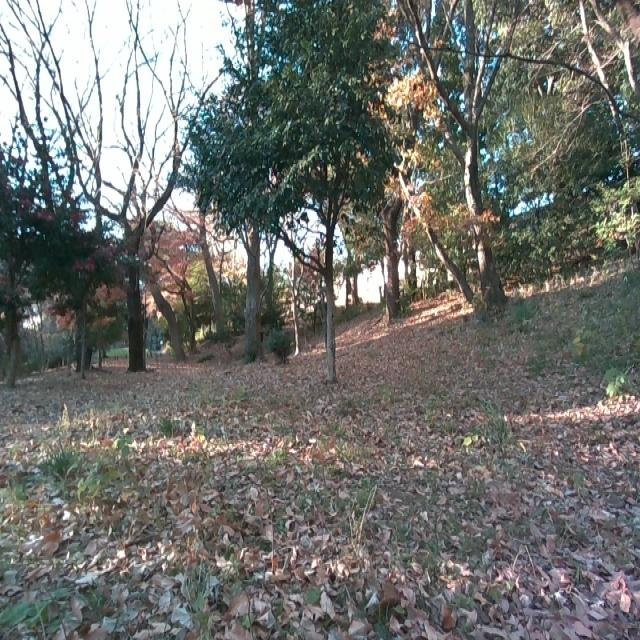bush: (549, 83, 640, 276)
tree: (66, 0, 191, 375), (369, 0, 522, 304), (202, 0, 289, 365), (305, 166, 357, 388), (0, 225, 48, 387)
